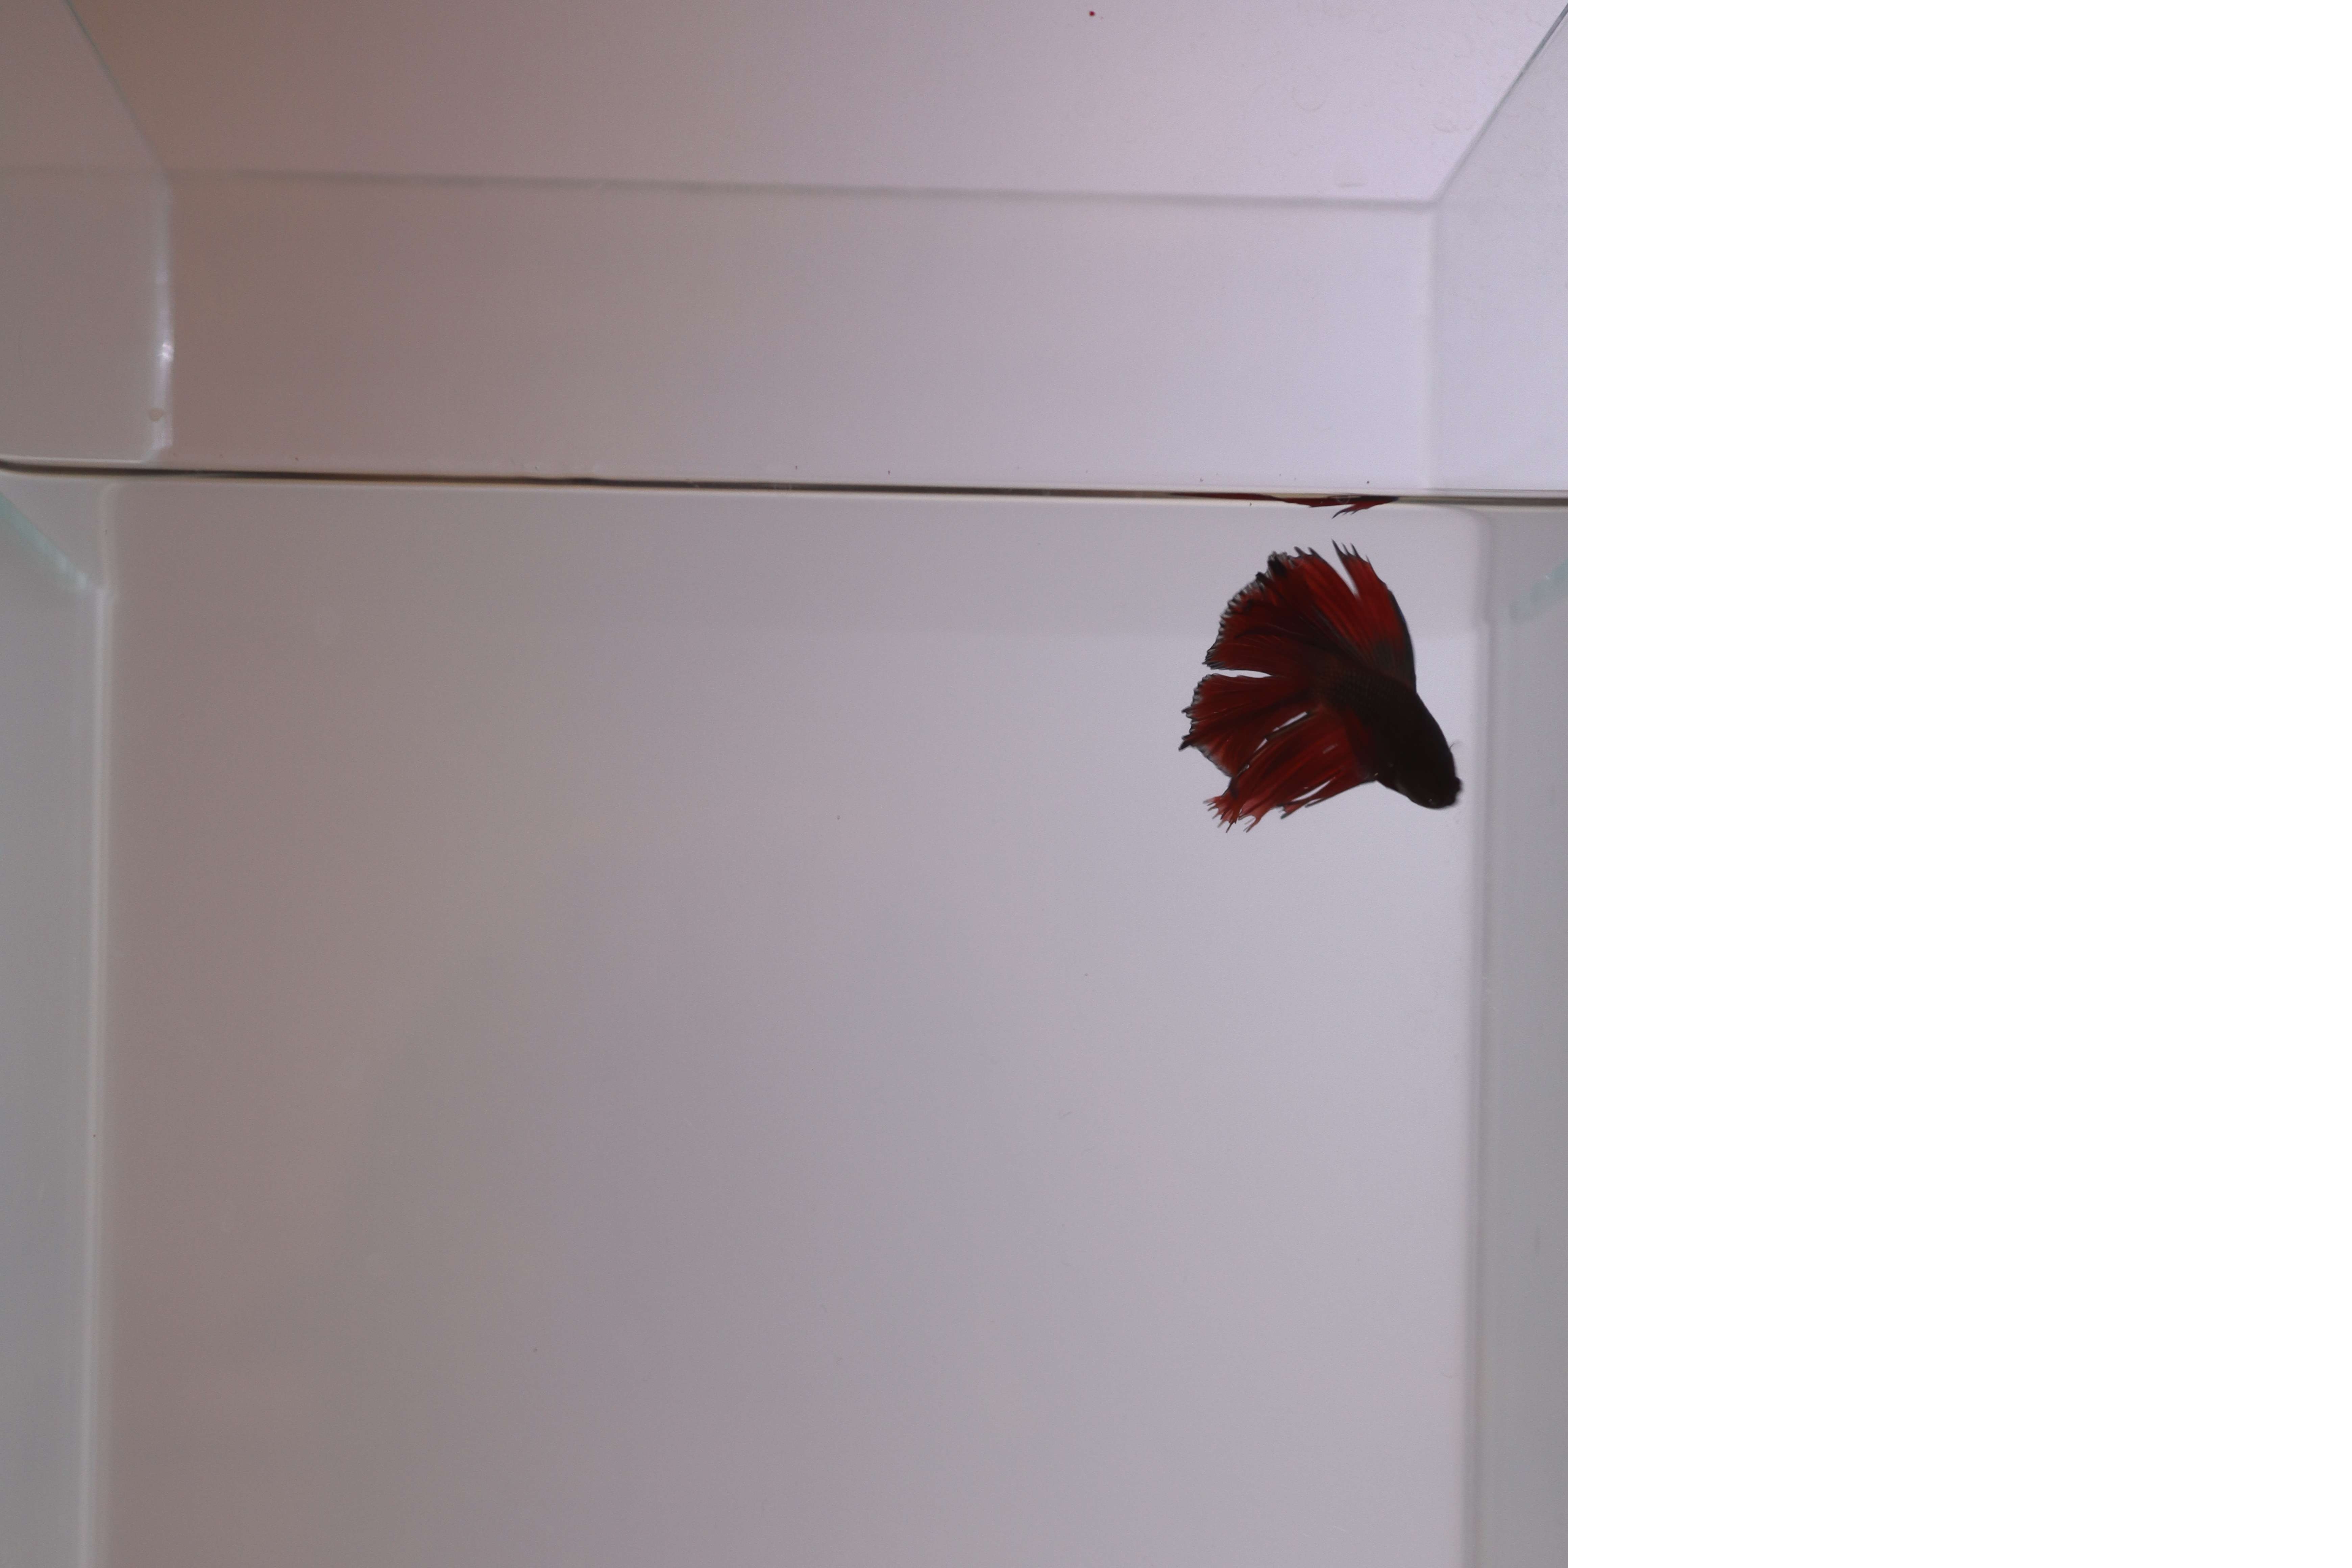fish: (1172, 539, 1480, 863)
